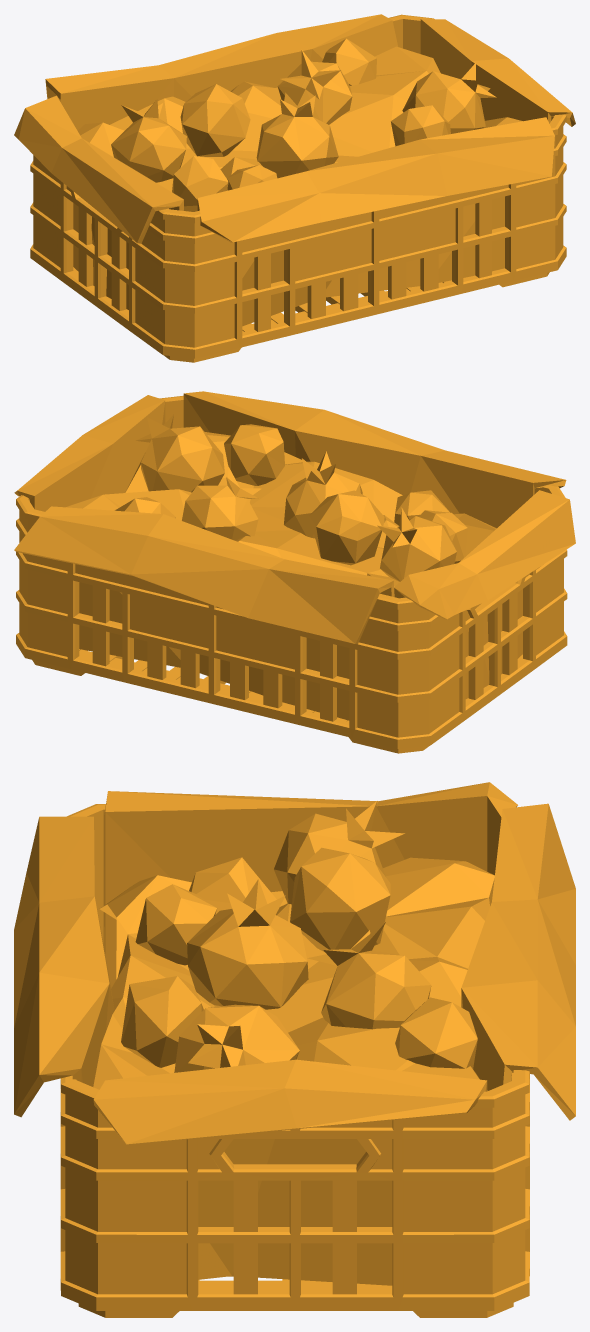
Rendered from SM_Crate_Plastic_Small_Paper_Tomatoes.fbx.
3 views of the same model, one above another, from view 1: azimuth 30°, elevation 25°; view 2: azimuth 150°, elevation 25°; view 3: azimuth 270°, elevation 25° (orthographic). The views are drawn at different scales.
Visible parts, largest first — view 1: crate-plastic-small-paper-tomatoes; view 2: crate-plastic-small-paper-tomatoes; view 3: crate-plastic-small-paper-tomatoes.
Part boxes in pixels (x1,y1,x2,y2): crate-plastic-small-paper-tomatoes: [14, 14, 575, 362]; crate-plastic-small-paper-tomatoes: [14, 391, 575, 753]; crate-plastic-small-paper-tomatoes: [14, 782, 575, 1317].
Size of the model in its own units: 0.663 by 0.2691 by 0.4887.
